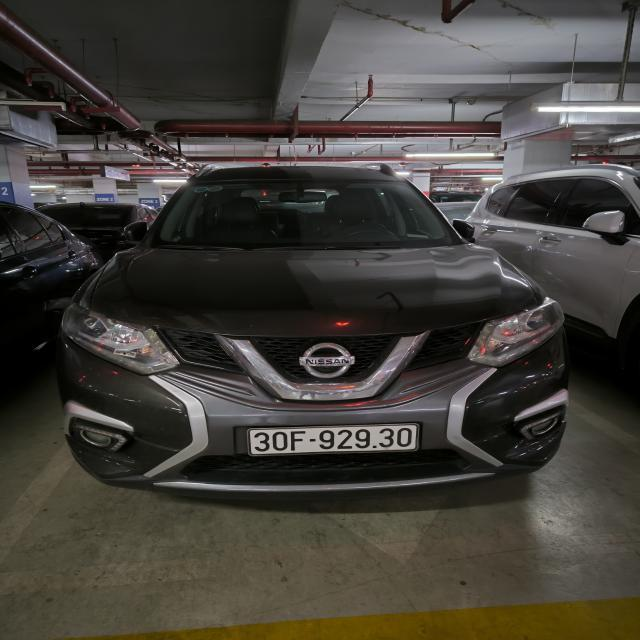license: (241, 422, 420, 456)
